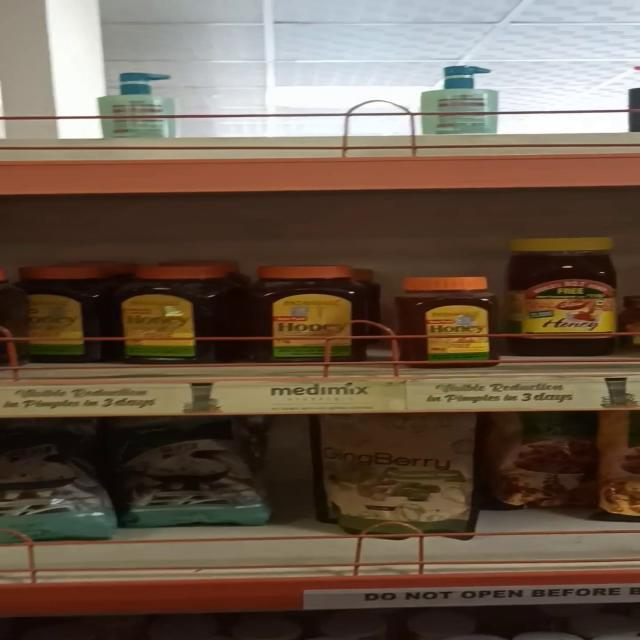Dabur Honey: (515, 223, 640, 354)
Patanjali Honey: (252, 253, 362, 350), (106, 255, 216, 352), (398, 265, 500, 365), (15, 255, 101, 360)
